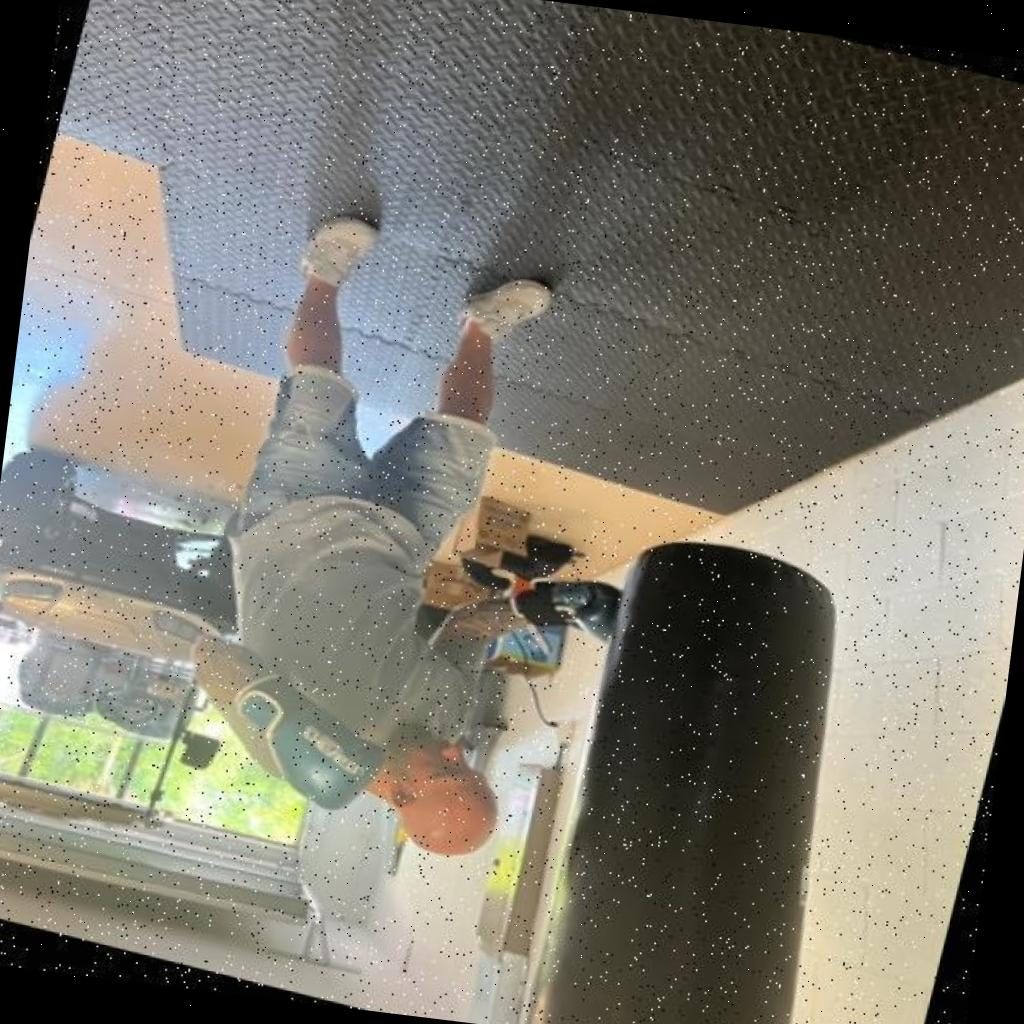uppercut: (160, 465, 740, 924)
